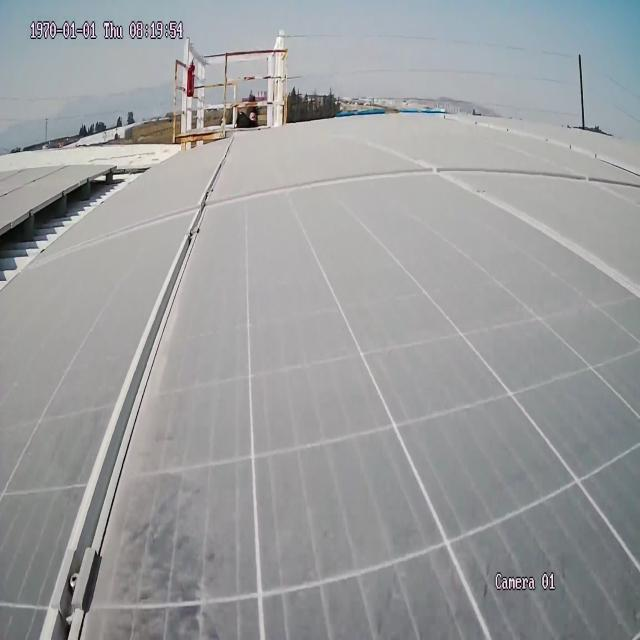interior panel: (20, 120, 640, 640)
outher panel: (0, 159, 169, 304)
